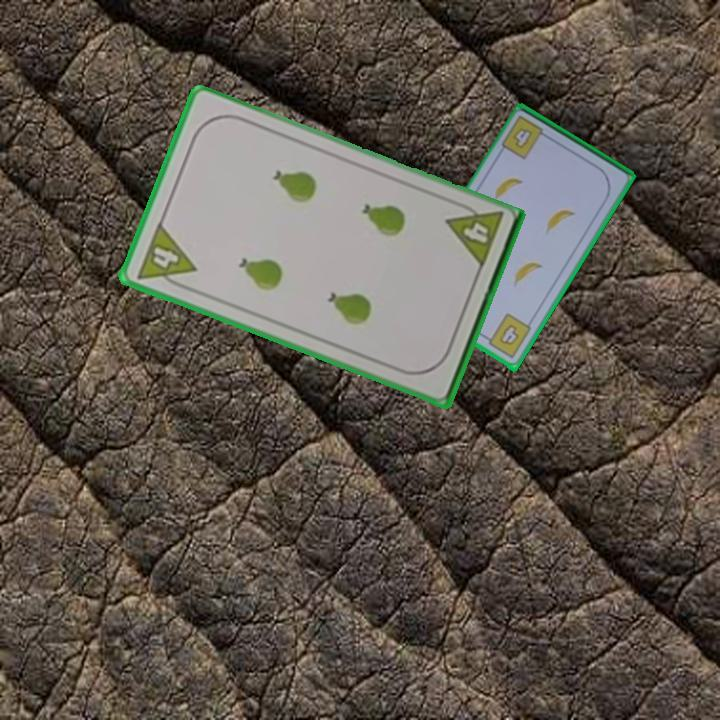4b: (480, 310, 534, 362), (509, 125, 536, 152)
4p: (132, 219, 199, 294), (442, 197, 506, 272)
